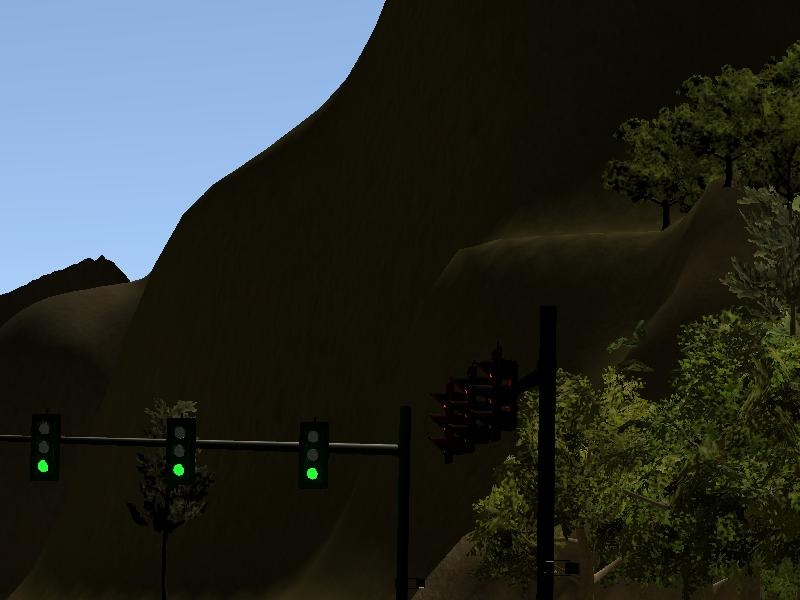GREEN: (28, 415, 59, 481), (163, 416, 194, 482), (296, 421, 327, 487)
